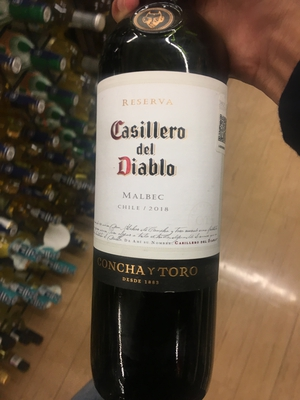casillero del diablo malbec: (73, 6, 243, 398)
